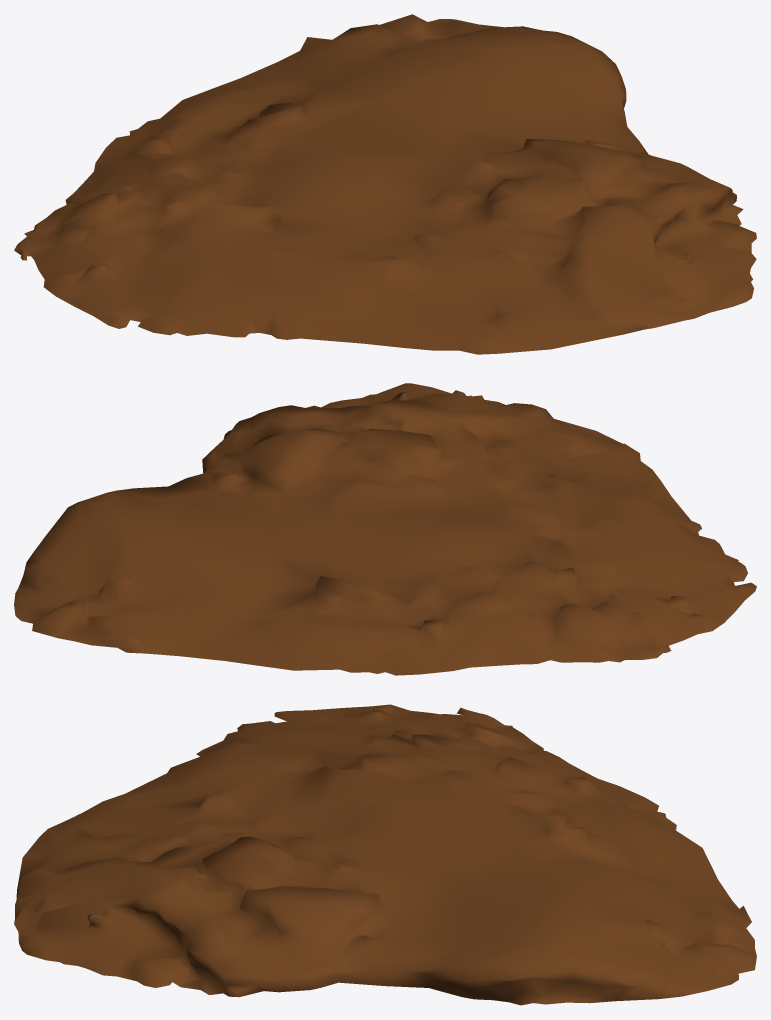
The model's file is MSH_Rocks_Flat_08.FBX.
3 views of the same model, one above another, from view 1: azimuth 30°, elevation 25°; view 2: azimuth 150°, elevation 25°; view 3: azimuth 270°, elevation 25° (orthographic). The views are drawn at different scales.
Parts seen in each view (by area): view 1: MESH_LOD0; view 2: MESH_LOD0; view 3: MESH_LOD0.
Part boxes in pixels (bbox=[...]): MESH_LOD0: bbox=[14, 14, 756, 354]; MESH_LOD0: bbox=[14, 383, 756, 675]; MESH_LOD0: bbox=[14, 704, 756, 1005].
Size of what is drawn, in the model's own units: 57.25 by 4.32 by 59.82.
